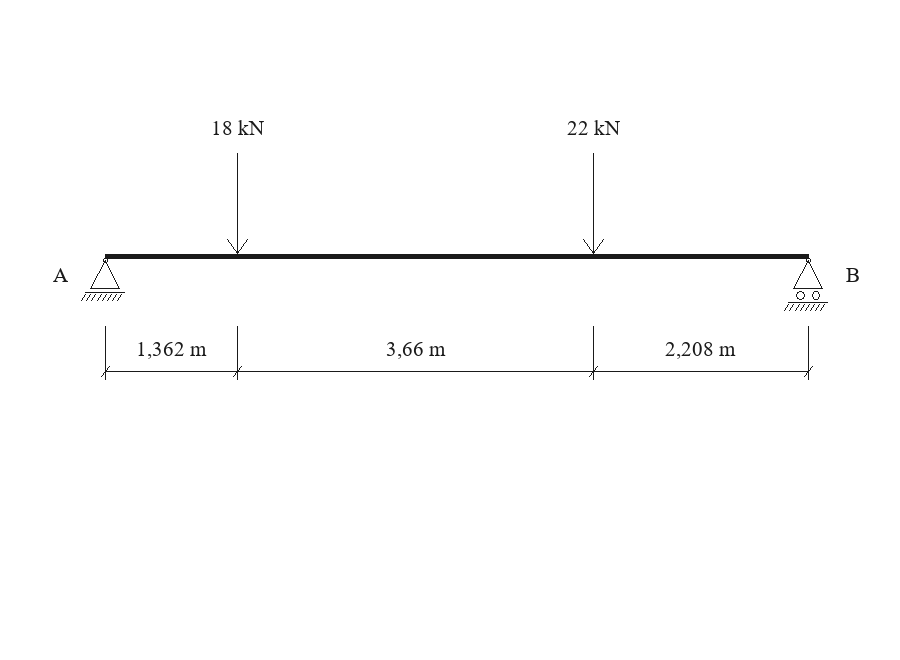pin_support: (81, 258, 125, 301)
point_load: (227, 153, 248, 254), (583, 153, 604, 254)
roller_support: (784, 258, 828, 311)
